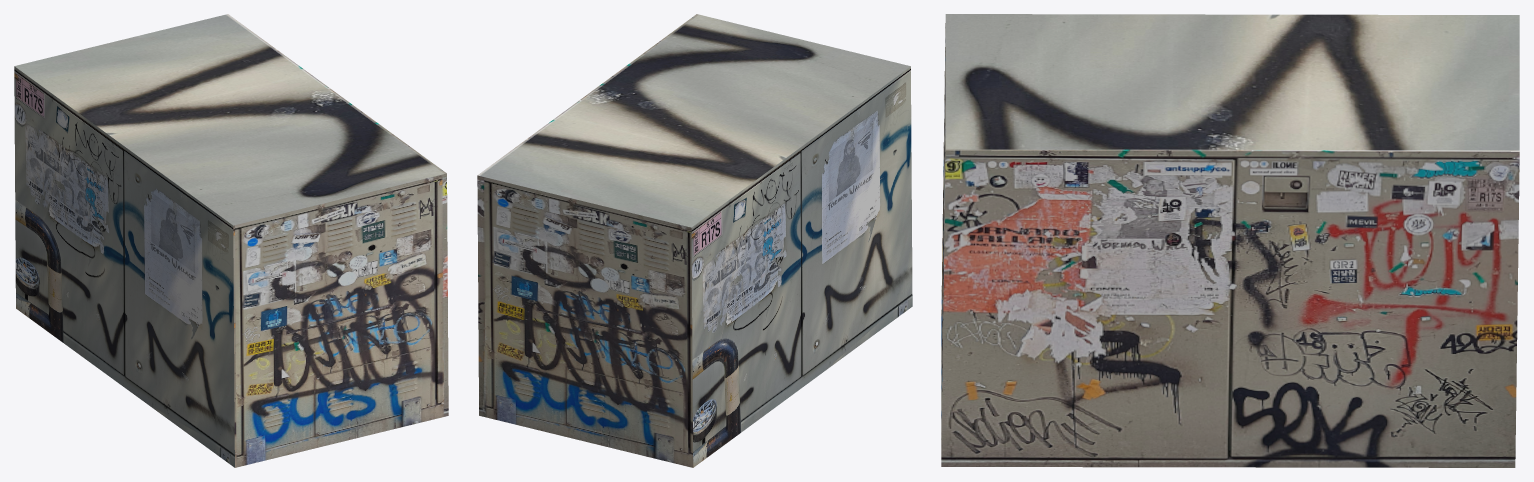
The model's file is KoreaBox.glb.
3 renders of one model, left to right at view 1: azimuth 30°, elevation 25°; view 2: azimuth 150°, elevation 25°; view 3: azimuth 270°, elevation 25°, orthographic. The views are drawn at different scales.
Parts seen in each view (by area): view 1: Cube; view 2: Cube; view 3: Cube.
Boxes of the visible parts, x1=… form: Cube: x1=14, y1=14, x2=448, y2=467; Cube: x1=477, y1=14, x2=912, y2=467; Cube: x1=941, y1=14, x2=1519, y2=467.
Size of the model in its own units: 5.33 by 5.77 by 9.53.
1 material, 1 textured.
